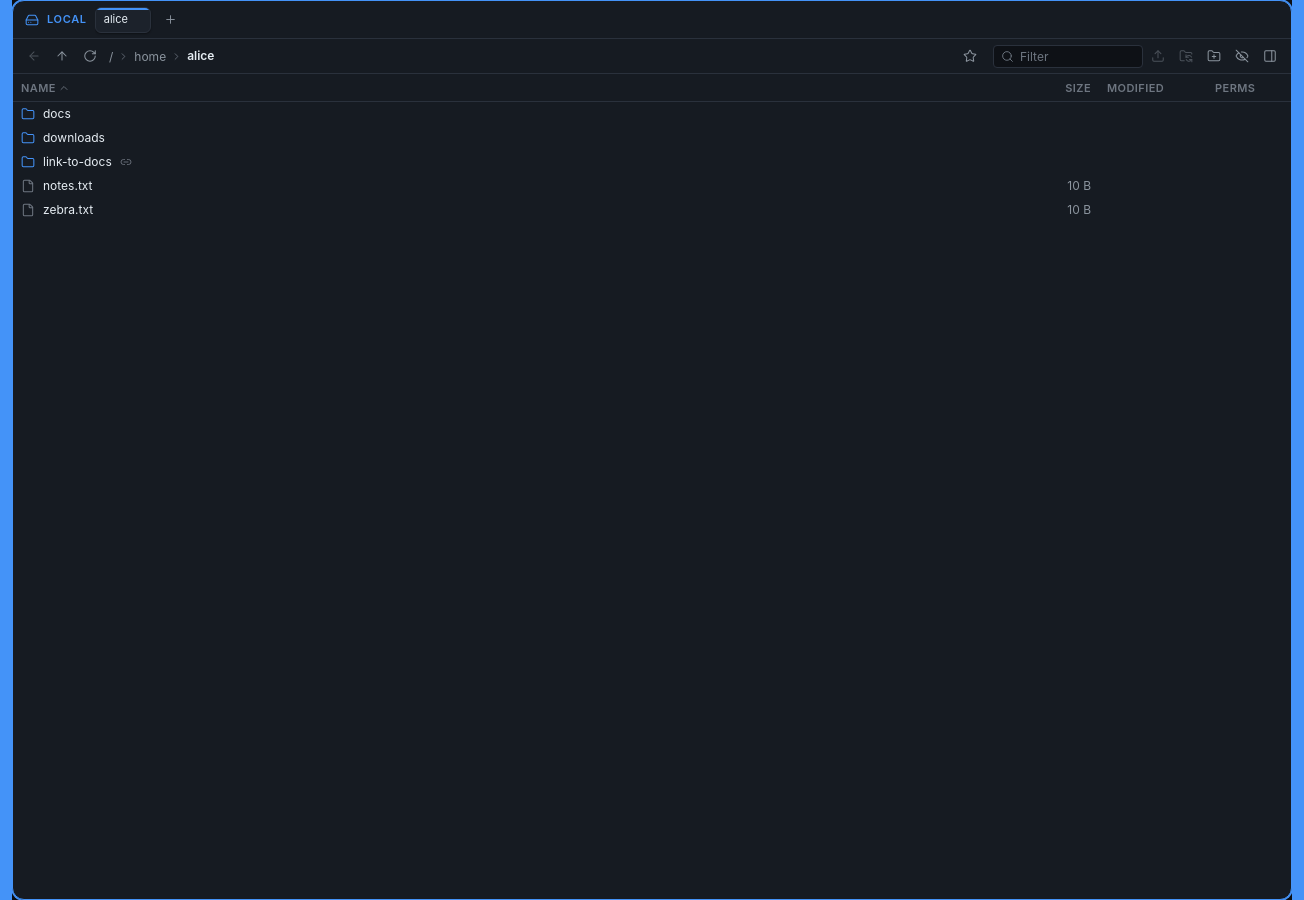
Scenario: opening the field › closes on Escape and gives the focus back to the table
Press p in the table, box [13,74,1291,217]
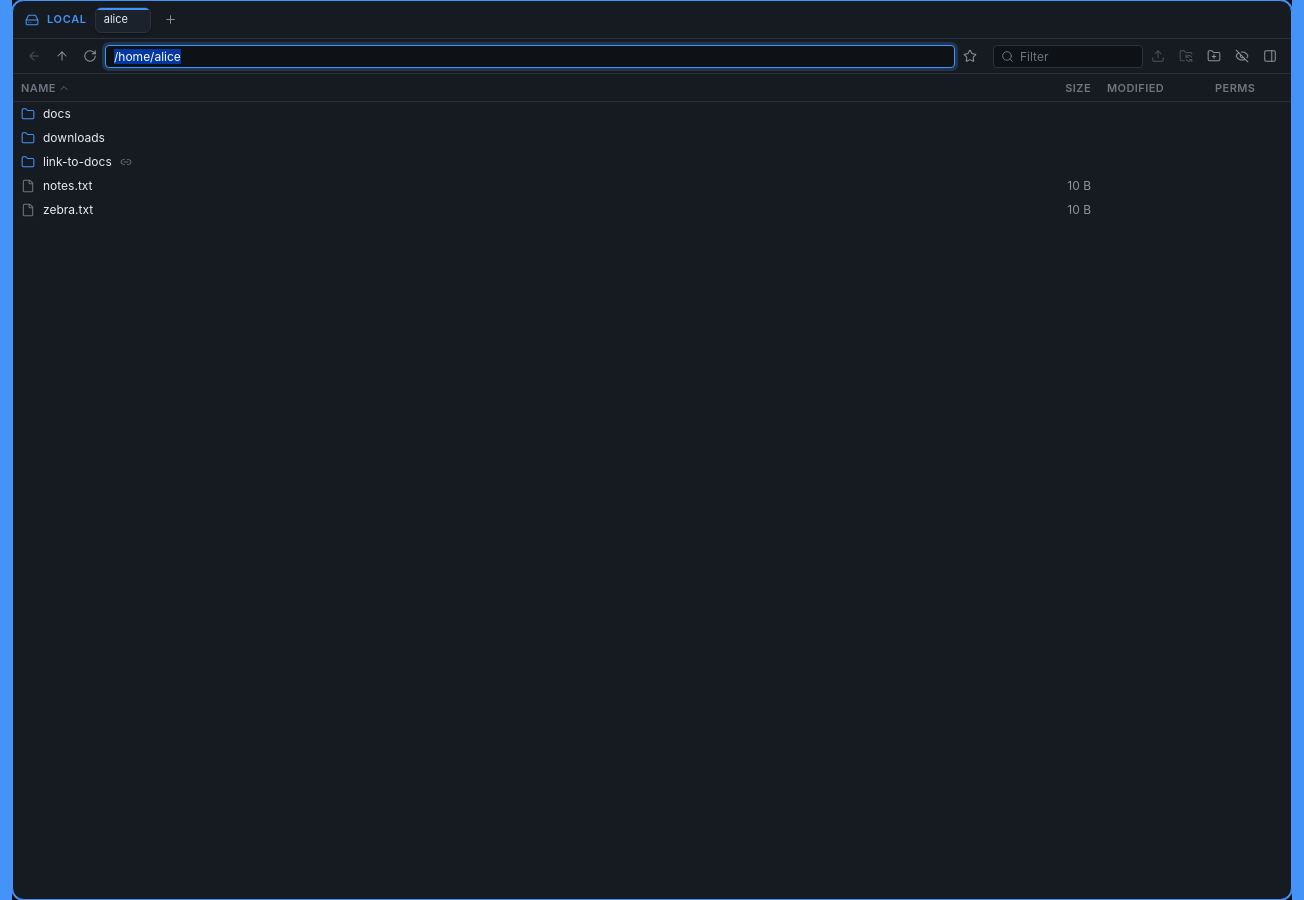
Replace the text in the field named "Go to path" with "/somewhere" at coordinates (530, 56), box [105,44,955,68]
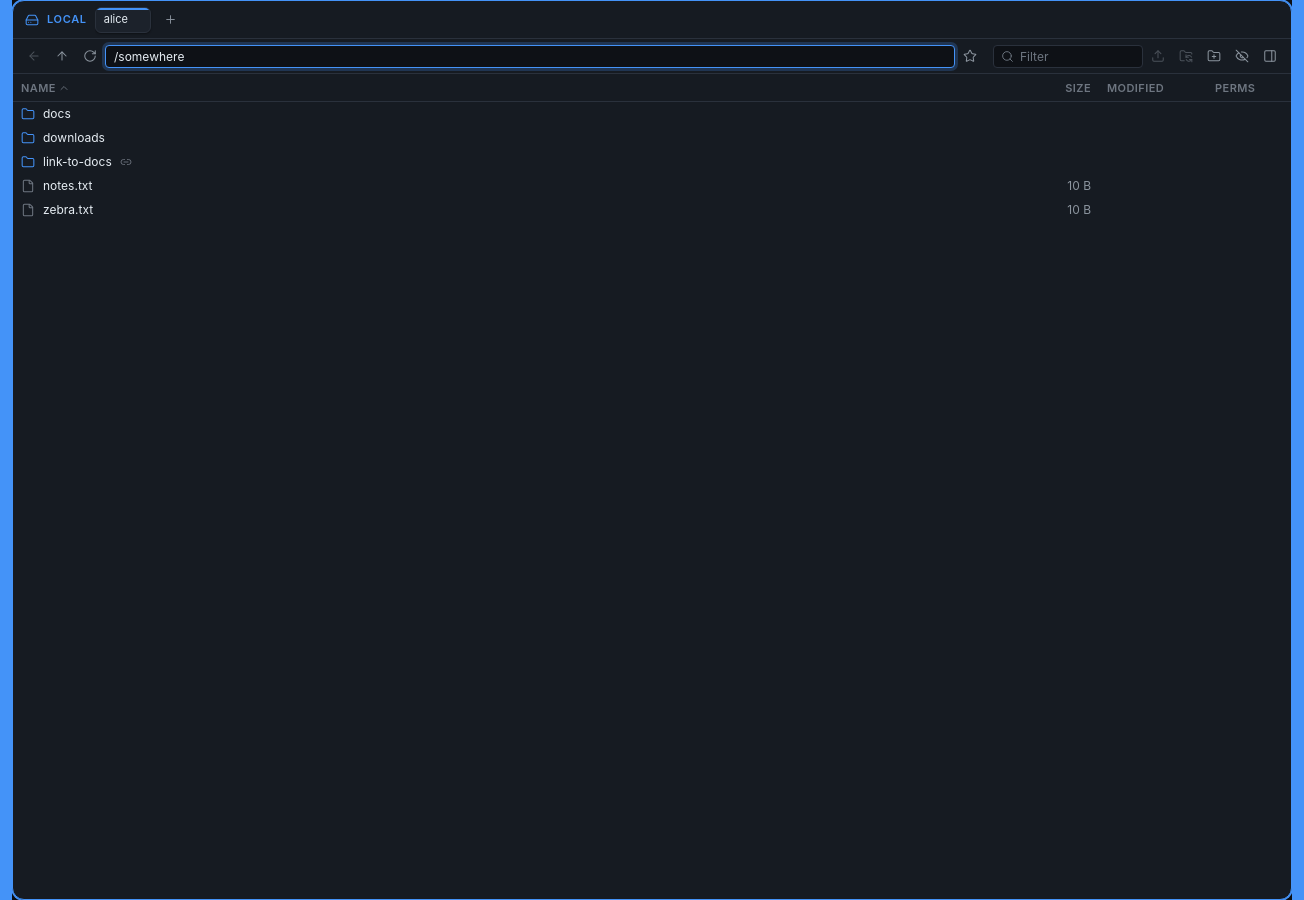
Press Escape in the field named "Go to path", box [105,44,955,68]
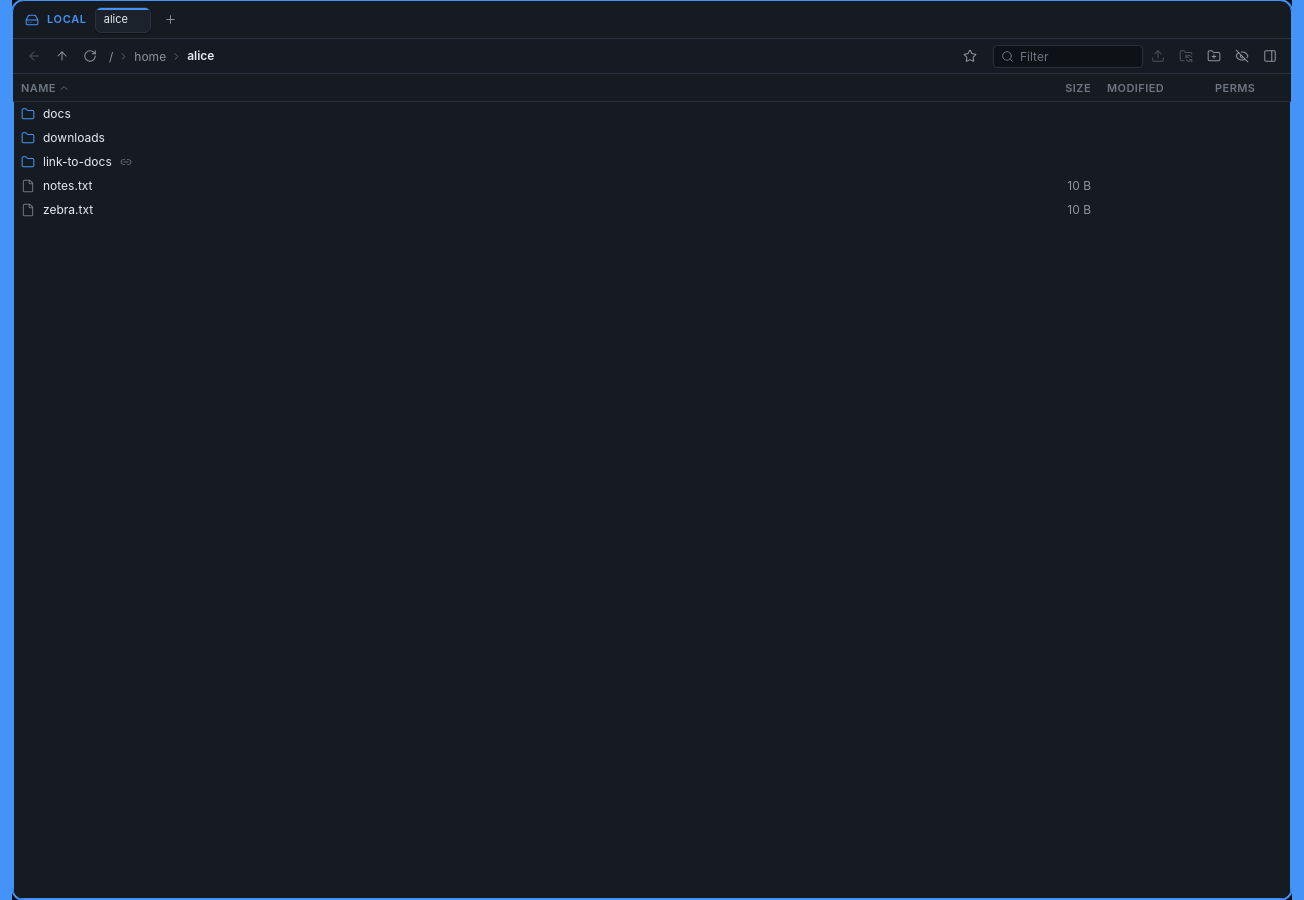
expect the navigation bar named "Path" shows "alice": met, box [187,48,214,63]
Press p in the table
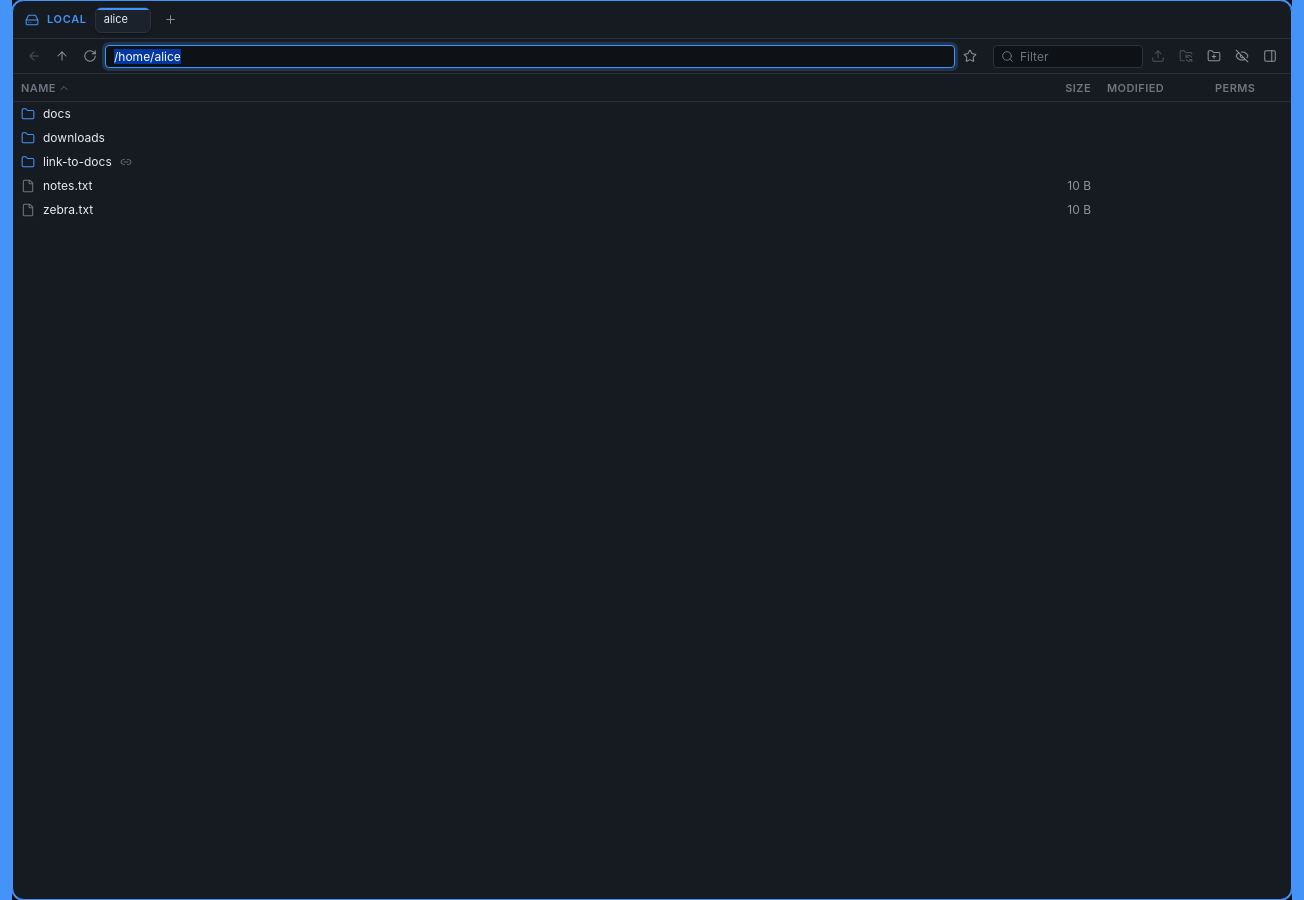
expect the field named "Go to path" holds "/home/alice": met, box [105,44,955,68]
